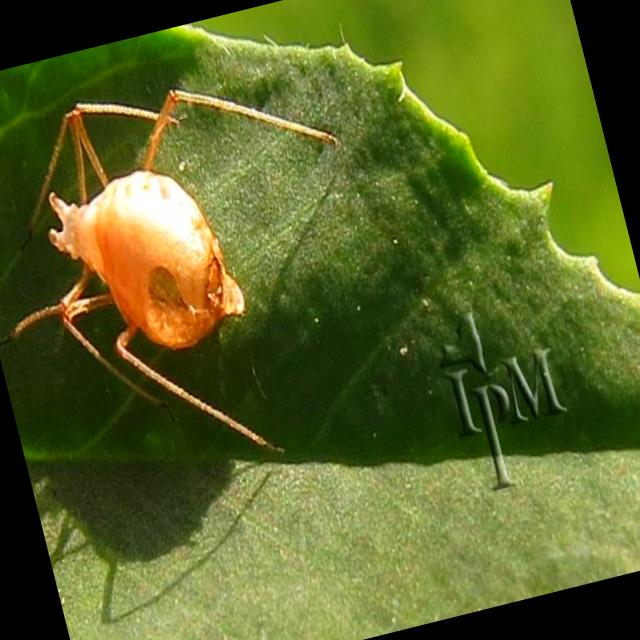Aphid: (0, 75, 383, 491)
